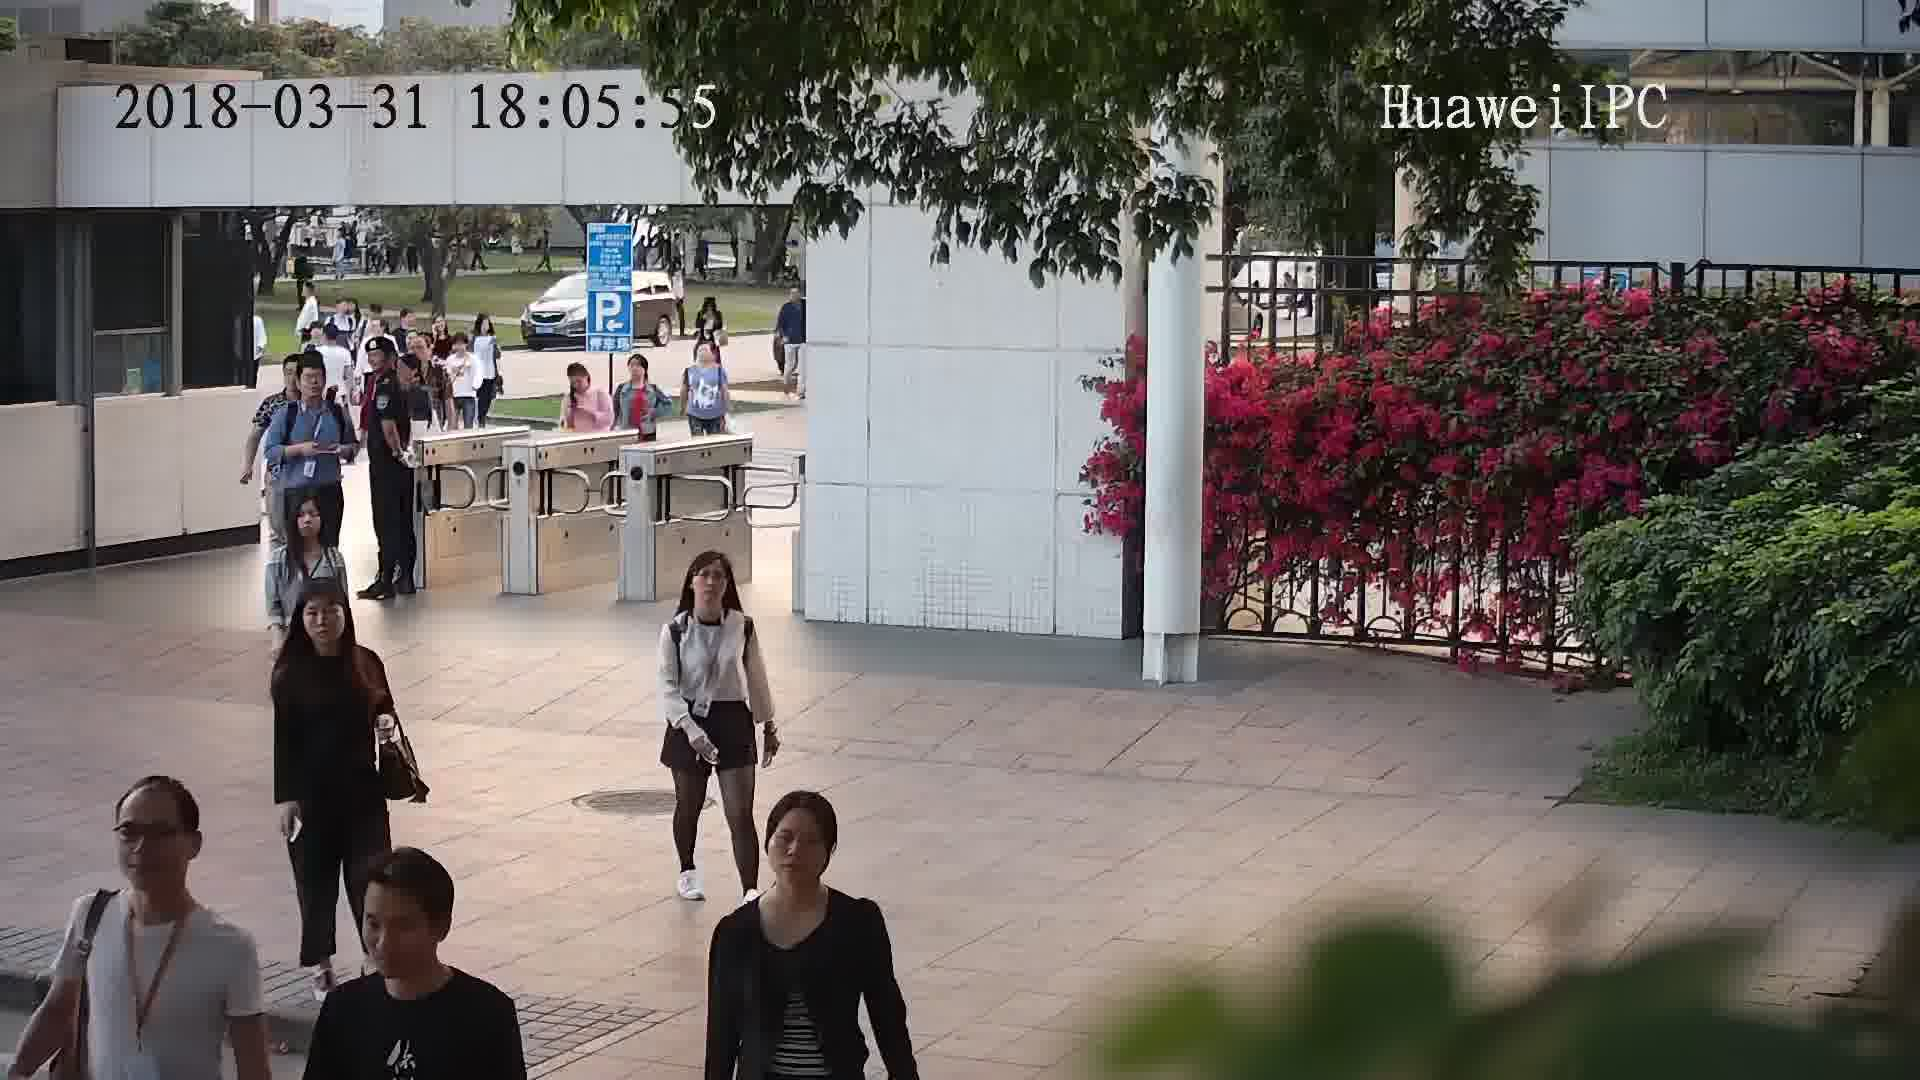face: (349, 878, 447, 976), (104, 795, 200, 891), (761, 811, 838, 888), (684, 557, 734, 609), (295, 596, 346, 647), (289, 497, 326, 541)
person: (67, 776, 256, 982), (314, 849, 515, 1039), (712, 789, 886, 970), (267, 575, 387, 694), (658, 545, 755, 644), (268, 488, 347, 575), (267, 354, 346, 421), (386, 350, 431, 408), (361, 335, 401, 393), (562, 361, 610, 405), (620, 350, 661, 401), (306, 320, 350, 366), (408, 339, 452, 383), (686, 338, 728, 380), (326, 296, 359, 330), (449, 329, 479, 365), (294, 274, 322, 312), (470, 311, 498, 346), (390, 308, 422, 337), (428, 310, 451, 351), (781, 283, 809, 314), (700, 293, 725, 320)
